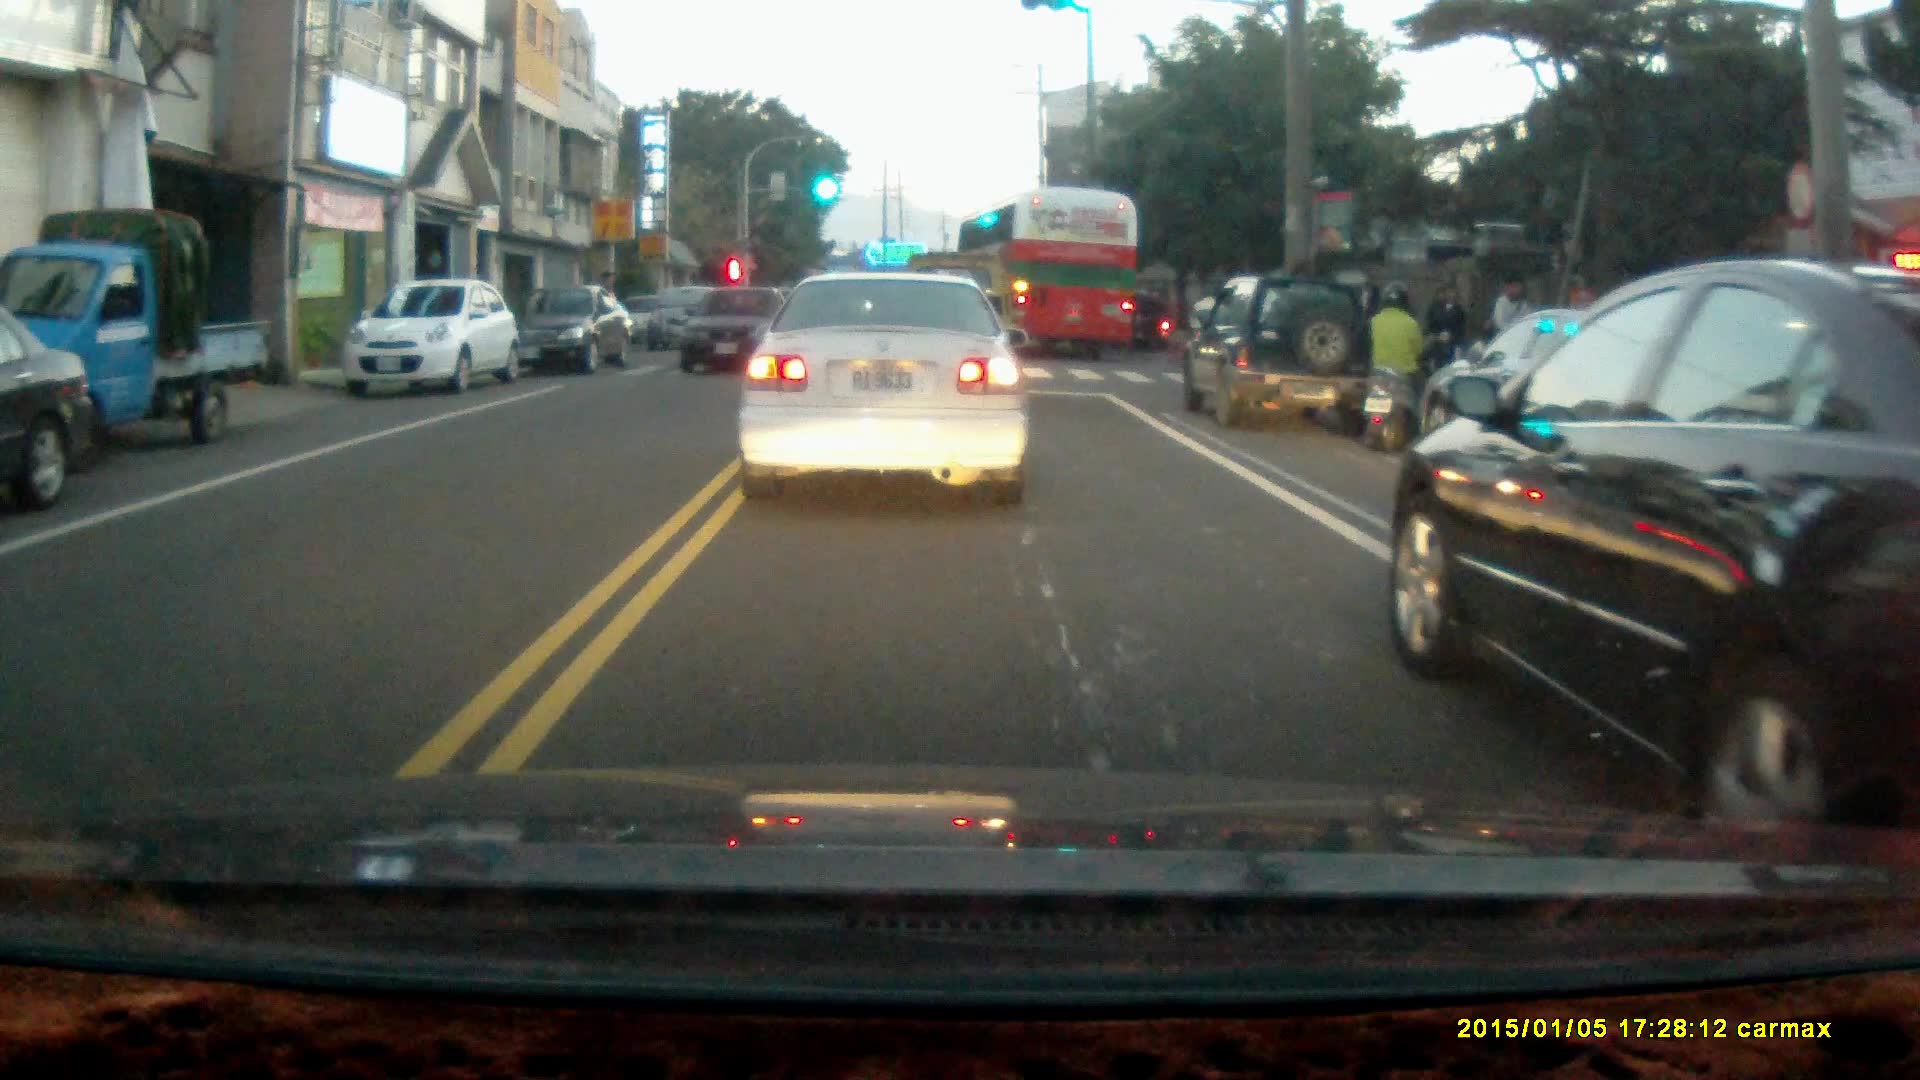pedestrian: (1488, 272, 1537, 384), (1423, 277, 1468, 398)
rider: (1359, 282, 1432, 452), (1115, 293, 1176, 350)
vehicle: (1394, 257, 1920, 833), (731, 268, 1032, 506), (1, 209, 276, 451), (1413, 304, 1738, 468), (1183, 275, 1385, 435), (961, 188, 1138, 360), (1, 305, 101, 515), (345, 282, 514, 398), (521, 284, 639, 375), (682, 284, 785, 382), (644, 286, 732, 359)
